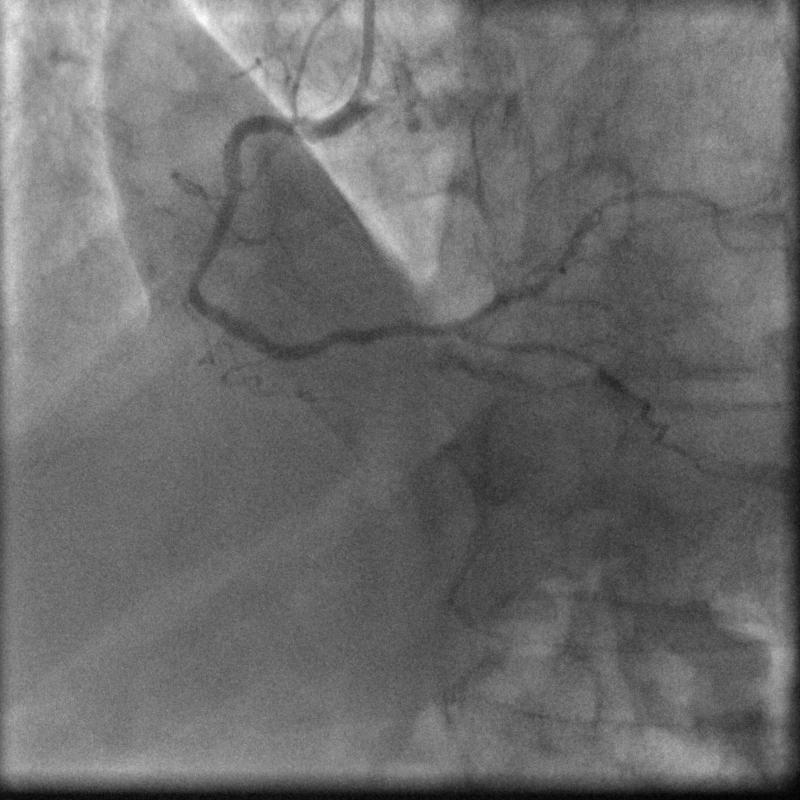Stenosis: (183, 259, 213, 287)
